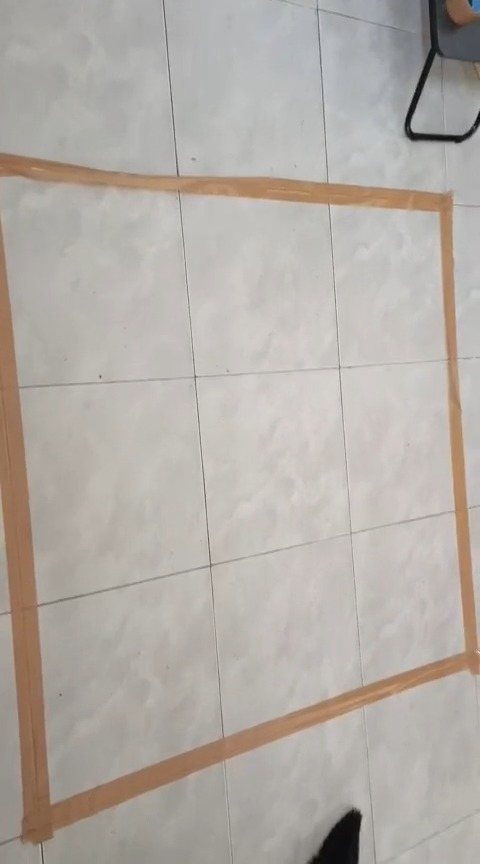floor marking: (0, 154, 479, 841)
